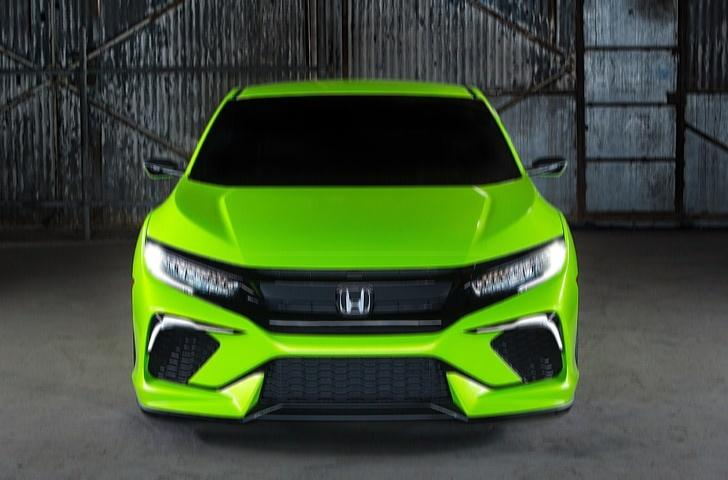Car hood: (139, 176, 567, 276)
Front bumper: (130, 269, 583, 421)
Headlight - -L-: (459, 238, 565, 301)
Headlight - -R-: (140, 235, 245, 303)
Side mirror - -L-: (522, 151, 573, 183)
Side mirror - -R-: (145, 155, 185, 186)
